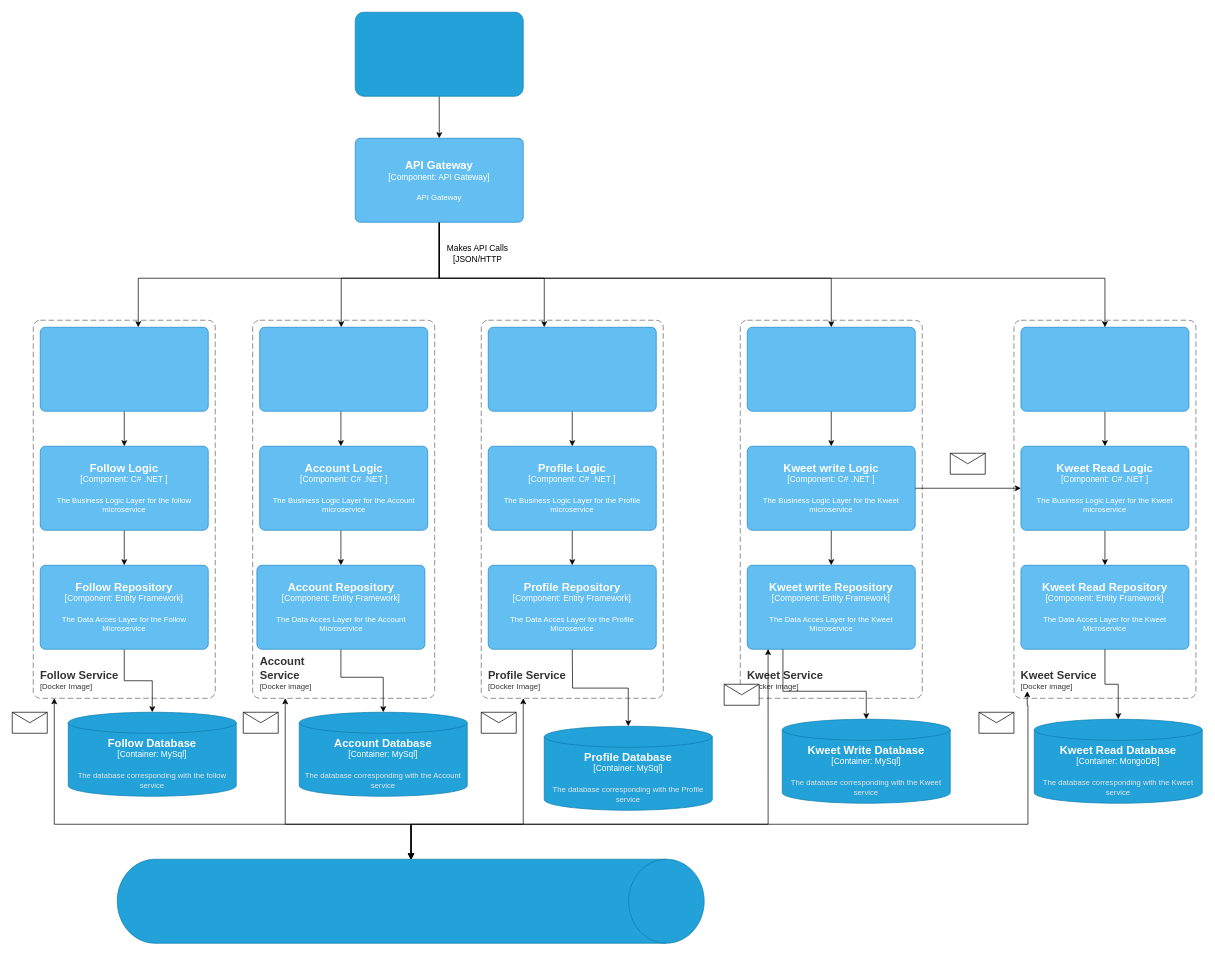
The diagram is 1215 pixels wide and 956 high, and some of its shapes have lost their labels. Here are the shapes that lost their labels. From the top down, the centre of each, then its label:
At [439,54]: "React Frontend [Container: React.js] Frontend kwetter application".
At [124,369]: "Follow Controller [Component: C# .NET API Controller] Follow Controller".
At [343,369]: "Account Controller [Component: C# .NET API Controller] Account Controller".
At [572,369]: "Profile Controller [Component: C# .NET API Controller] Profile Controller".
At [831,369]: "Write Controller [Component: C# .NET API Controller] Kweet Write Controller".
At [1104,369]: "read Controller [Component: C# .NET API Controller] Kweet read Controller".
At [410,901]: "Event bus [Provider:: RabbitMQ] message broker".
